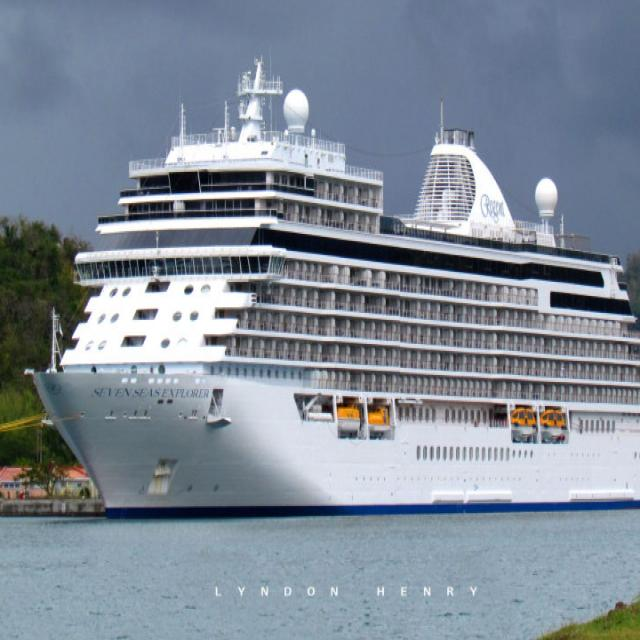cruises: (25, 54, 640, 526)
